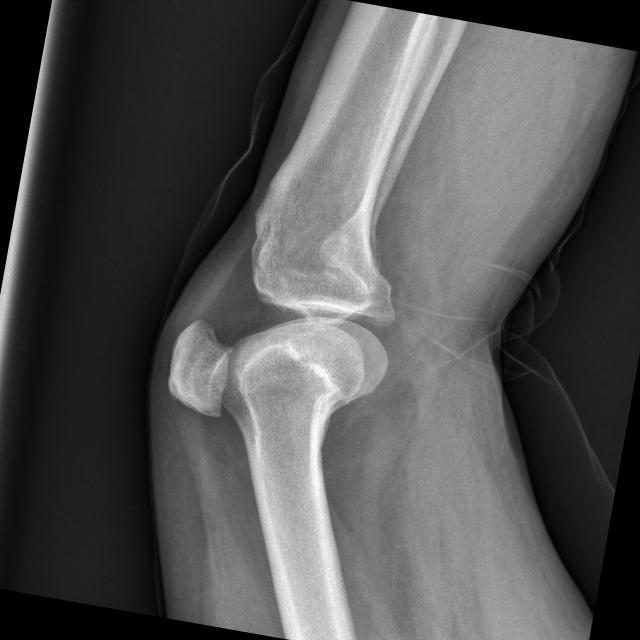Knee: (160, 218, 414, 451)
